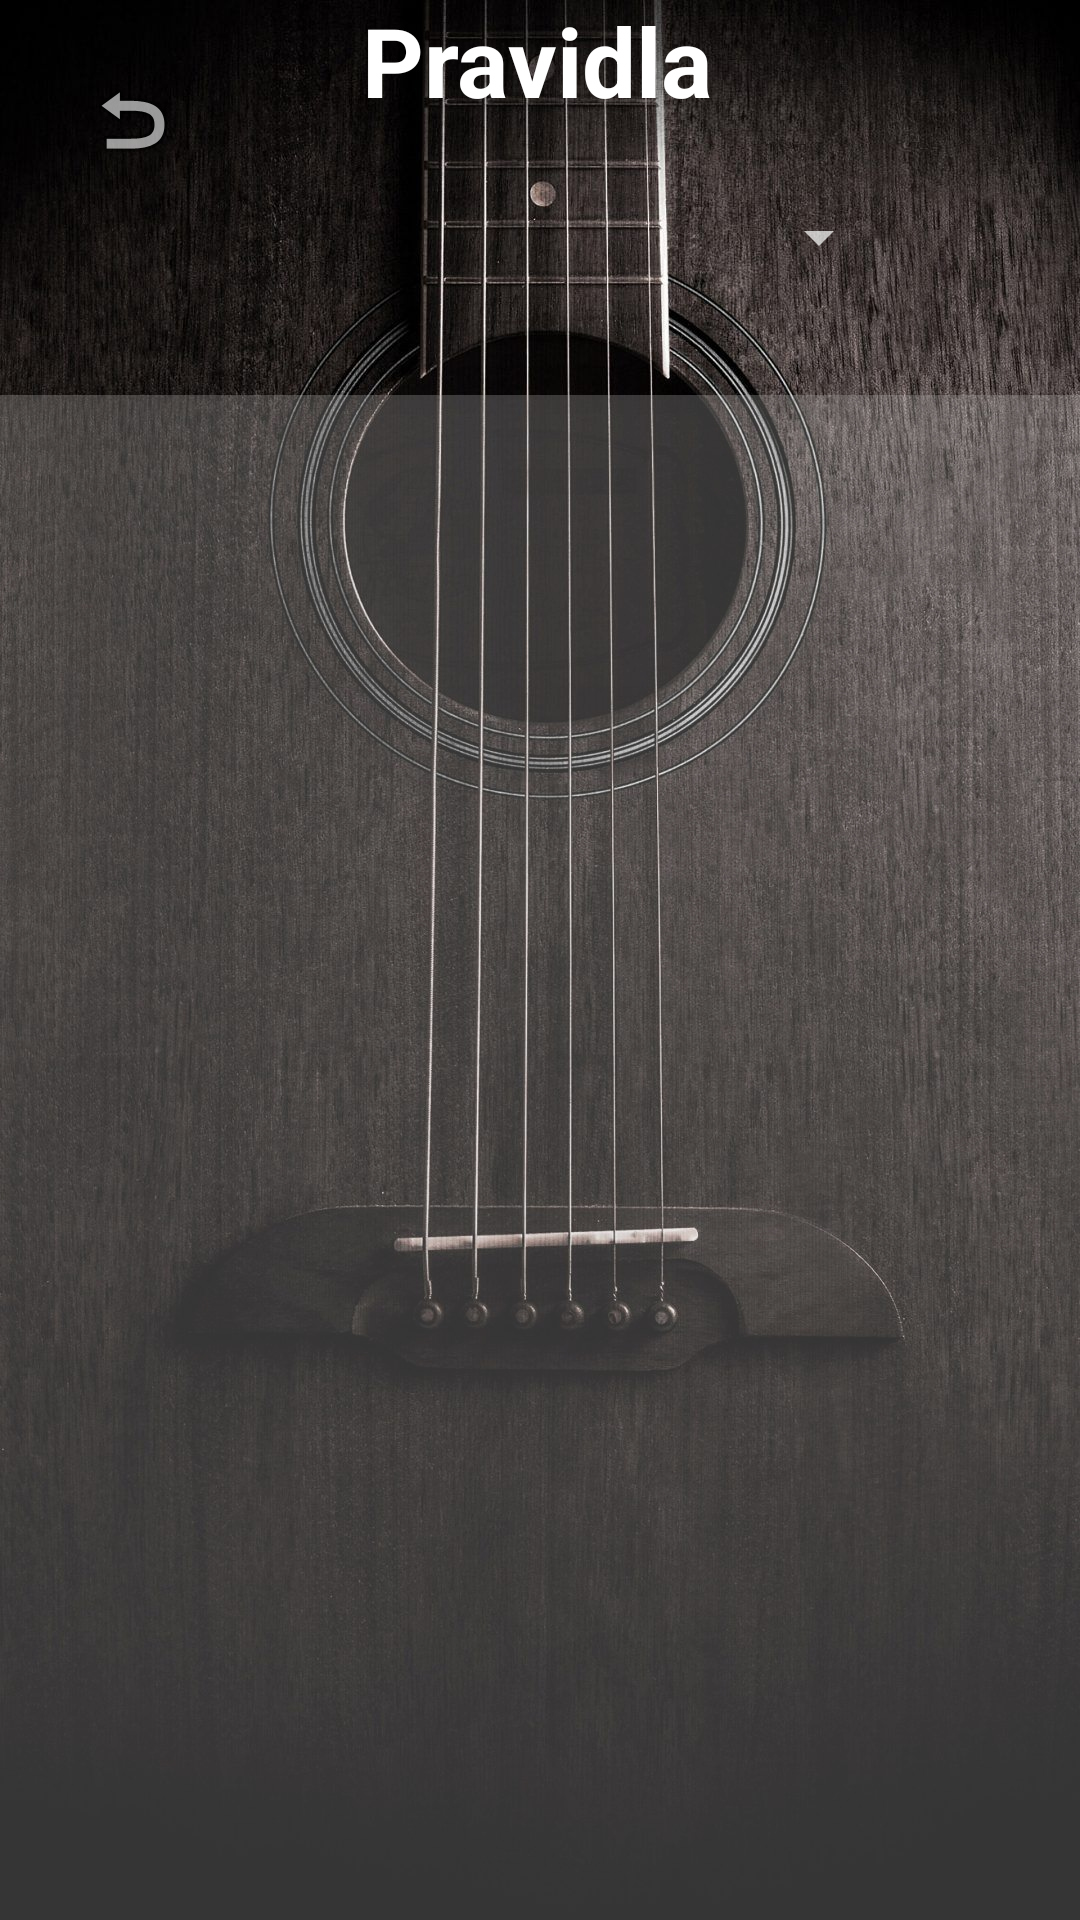

Screen size 1080x1920. Icon name, then its center in pixels as point (x, y):
revert: point (156, 142)
